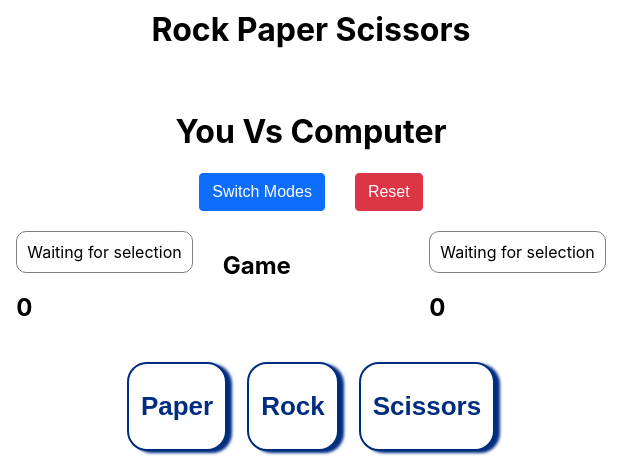
Scenario: testing Game  Component › User Can Switch the Mode
Check: the heading "You Vs Computer" is shown, box 176,112 -> 446,151
Click the button "Switch Modes" at (262, 192), box 199,173 -> 325,211
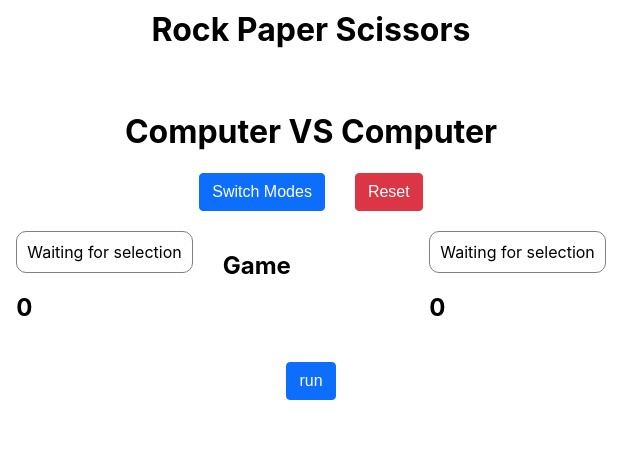
Check: the heading "Computer VS Computer" is shown, box 125,112 -> 497,151
